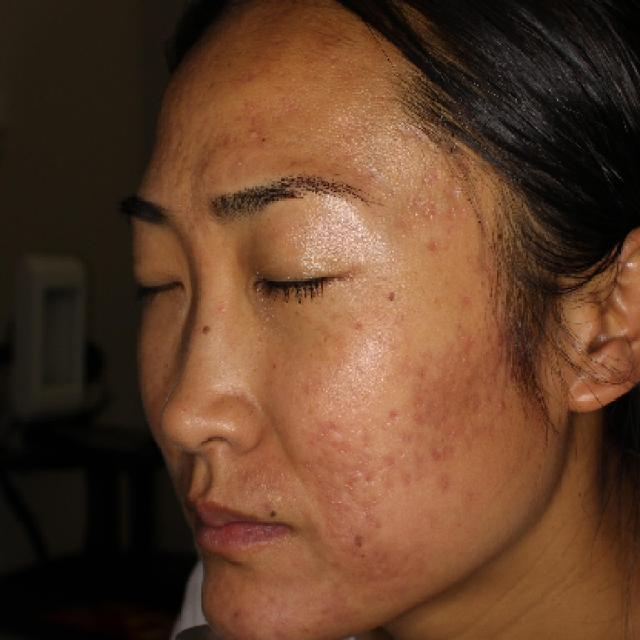Blackheads: (258, 498, 291, 528), (380, 282, 408, 310)
